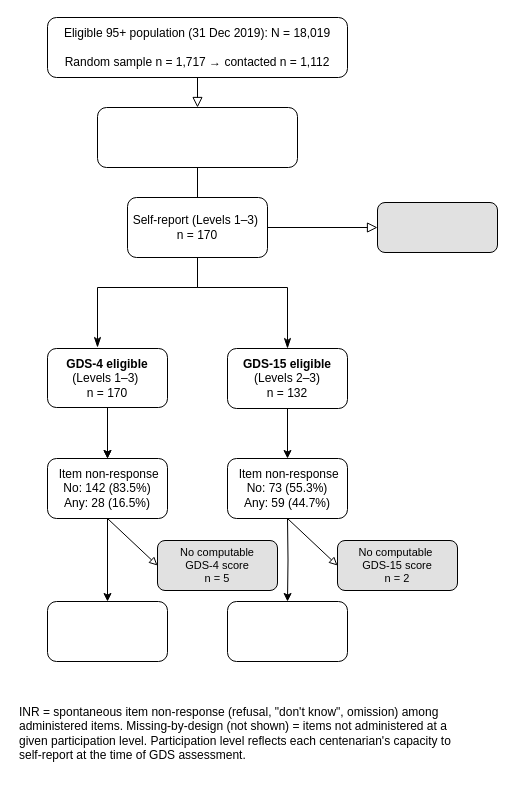
This 515x796 diagram has some shape labels left out. Each missing label, with the box of its shape:
GDS-15 analytic sample n = 130: (226, 600, 348, 662)
GDS-4 analytic sample n = 165: (46, 600, 168, 662)
Proxy replacement (Level 0) n = 107: (376, 202, 498, 252)
SWISS100 cohort: Baseline participants N = 277: (96, 106, 298, 168)
